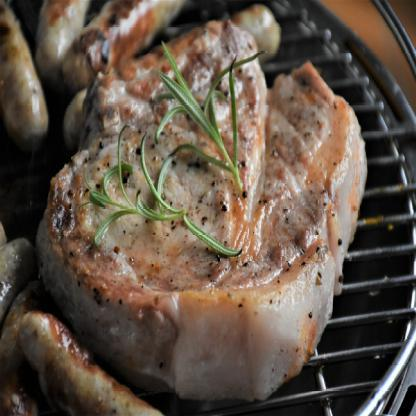pork: (51, 29, 361, 385)
